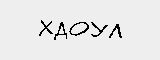Д: (55, 21, 70, 41)
Л: (107, 22, 123, 41)
О: (69, 17, 88, 38)
У: (90, 18, 107, 39)
Х: (35, 17, 53, 39)
